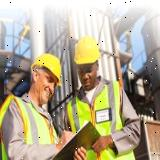Helmet: (30, 53, 63, 87), (74, 35, 101, 65)
Vest: (65, 79, 136, 160), (0, 92, 59, 160)
